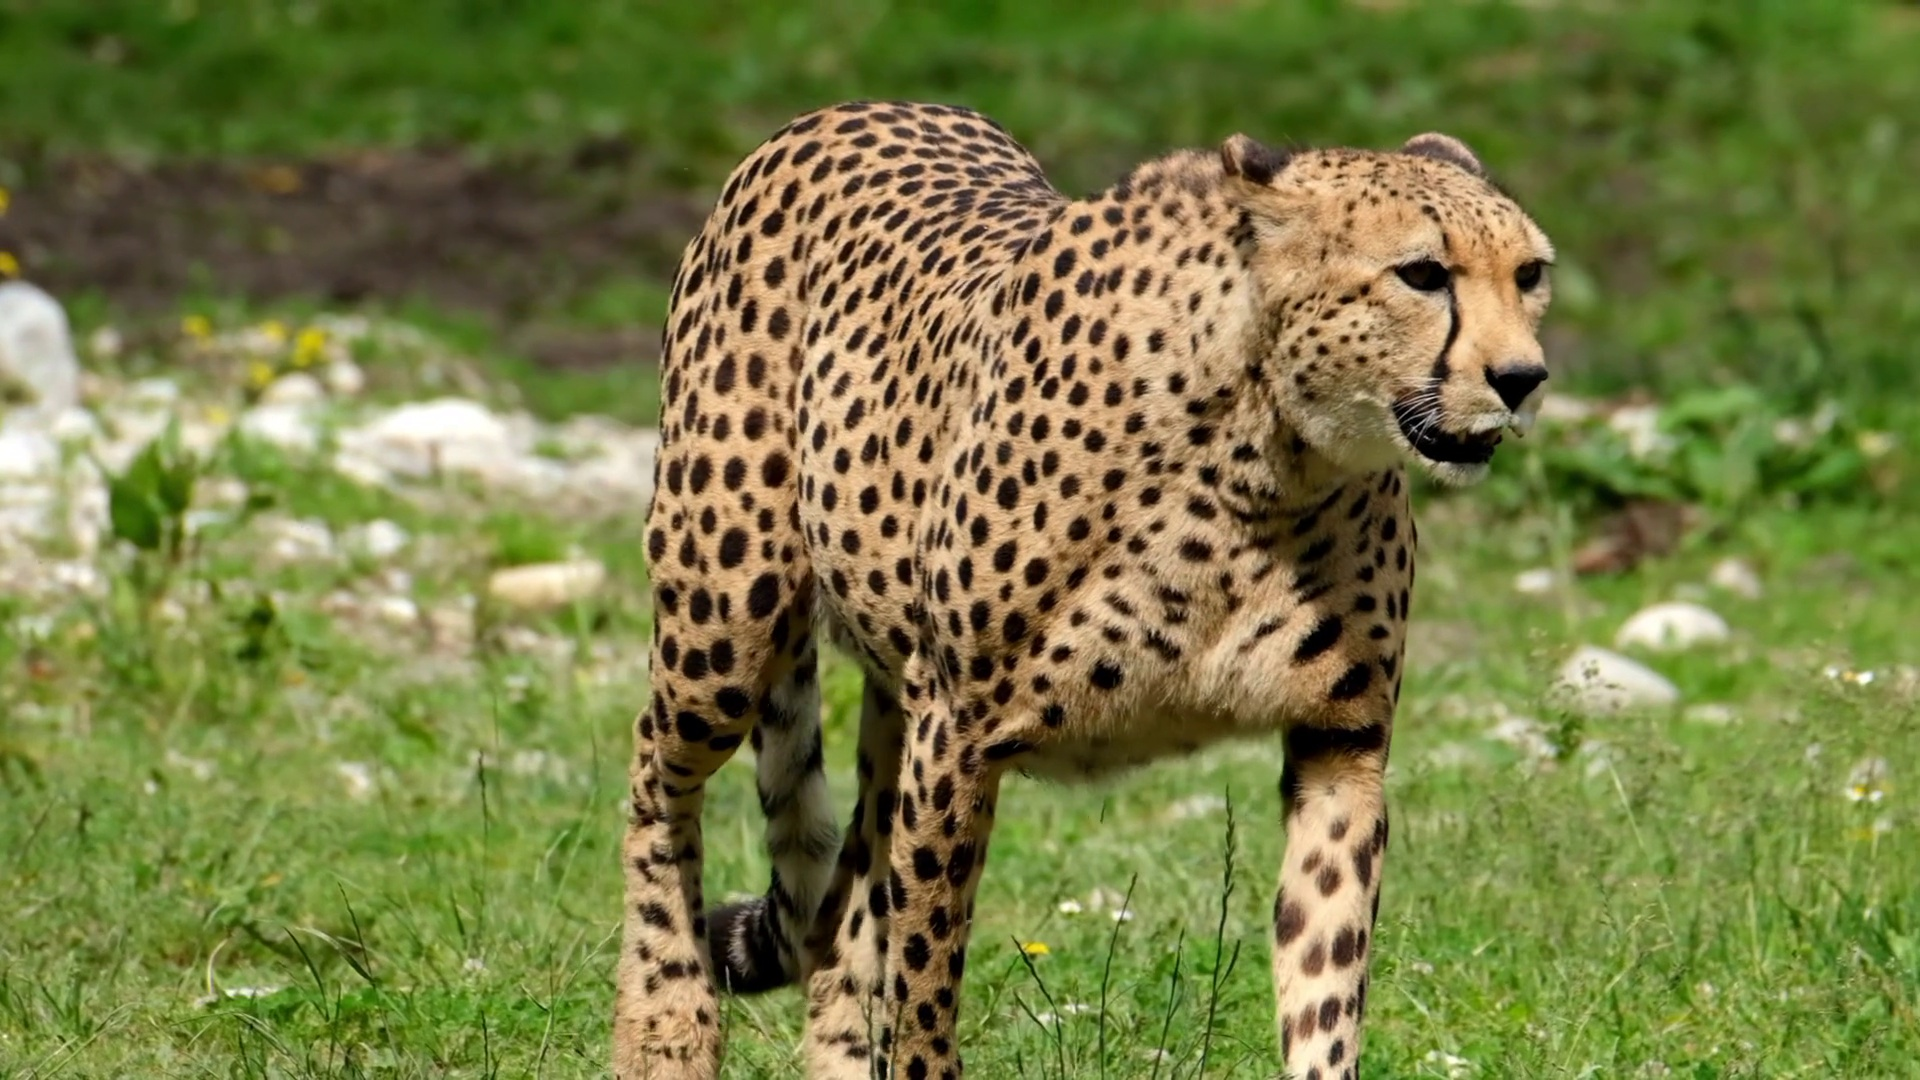Cheetah: (604, 94, 1560, 1080)
